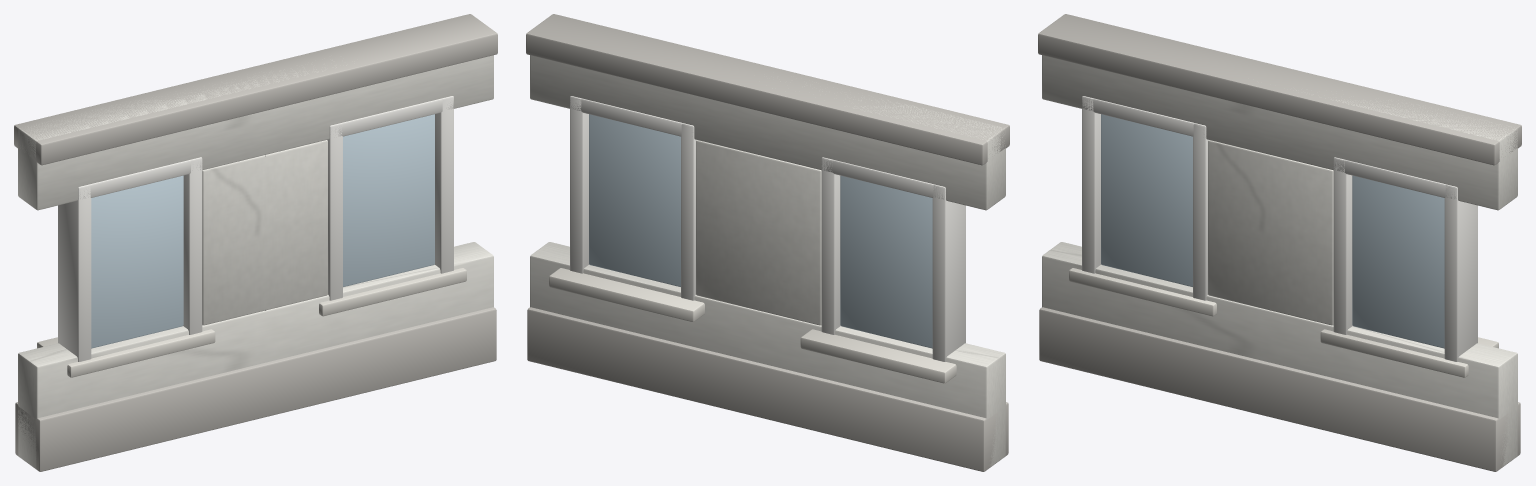
File: th34_wand_fenster2.glb
3 renders of one model, left to right at view 1: azimuth 30°, elevation 25°; view 2: azimuth 150°, elevation 25°; view 3: azimuth 330°, elevation 25°, orthographic.
Visible parts, largest first — view 1: Cube.016, Cube, Cube.017, Cube.001, Cube.002, Cube.003, Cube.009, Cube.004, Cube.005, Cube.011, Cube.010, Cube.007 (+3 smaller); view 2: Cube.016, Cube.017, Cube, Cube.002, Cube.001, Cube.003, Cube.009, Cube.004, Cube.007, Cube.013, Cube.005, Cube.011 (+3 smaller); view 3: Cube.016, Cube, Cube.017, Cube.002, Cube.001, Cube.009, Cube.003, Cube.011, Cube.010, Cube.004, Cube.005, Cube.013 (+3 smaller).
Part boxes in pixels (x1=…): Cube.016: x1=15, y1=307, x2=496, y2=471; Cube: x1=18, y1=242, x2=493, y2=468; Cube.017: x1=14, y1=14, x2=497, y2=165; Cube.001: x1=18, y1=55, x2=493, y2=210; Cube.002: x1=202, y1=140, x2=327, y2=325; Cube.003: x1=91, y1=175, x2=183, y2=348; Cube.009: x1=343, y1=114, x2=434, y2=286; Cube.004: x1=58, y1=184, x2=91, y2=361; Cube.005: x1=183, y1=157, x2=202, y2=334; Cube.011: x1=435, y1=96, x2=453, y2=273; Cube.010: x1=327, y1=123, x2=342, y2=300; Cube.007: x1=37, y1=329, x2=215, y2=377; Cube.016: x1=527, y1=307, x2=1008, y2=471; Cube.017: x1=526, y1=14, x2=1009, y2=165; Cube: x1=530, y1=242, x2=1005, y2=466; Cube.002: x1=696, y1=140, x2=821, y2=325; Cube.001: x1=530, y1=55, x2=1005, y2=210; Cube.003: x1=840, y1=175, x2=932, y2=348; Cube.009: x1=589, y1=114, x2=680, y2=286; Cube.004: x1=932, y1=184, x2=965, y2=361; Cube.007: x1=800, y1=329, x2=956, y2=383; Cube.013: x1=549, y1=268, x2=704, y2=321; Cube.005: x1=821, y1=157, x2=840, y2=334; Cube.011: x1=570, y1=96, x2=588, y2=273; Cube.016: x1=1039, y1=307, x2=1520, y2=471; Cube: x1=1042, y1=242, x2=1517, y2=468; Cube.017: x1=1038, y1=14, x2=1521, y2=165; Cube.002: x1=1208, y1=140, x2=1333, y2=325; Cube.001: x1=1042, y1=55, x2=1517, y2=210; Cube.009: x1=1352, y1=175, x2=1444, y2=348; Cube.003: x1=1101, y1=114, x2=1192, y2=286; Cube.011: x1=1444, y1=184, x2=1477, y2=361; Cube.010: x1=1333, y1=157, x2=1352, y2=334; Cube.004: x1=1082, y1=96, x2=1100, y2=273; Cube.005: x1=1193, y1=123, x2=1208, y2=300; Cube.013: x1=1320, y1=329, x2=1498, y2=377.
Bounding box in the file's own units: 4 × 2.75 × 0.53.
Materials: 5 (1 with a texture image).
